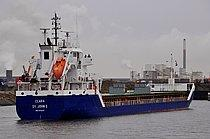Ship: (12, 13, 201, 124)
